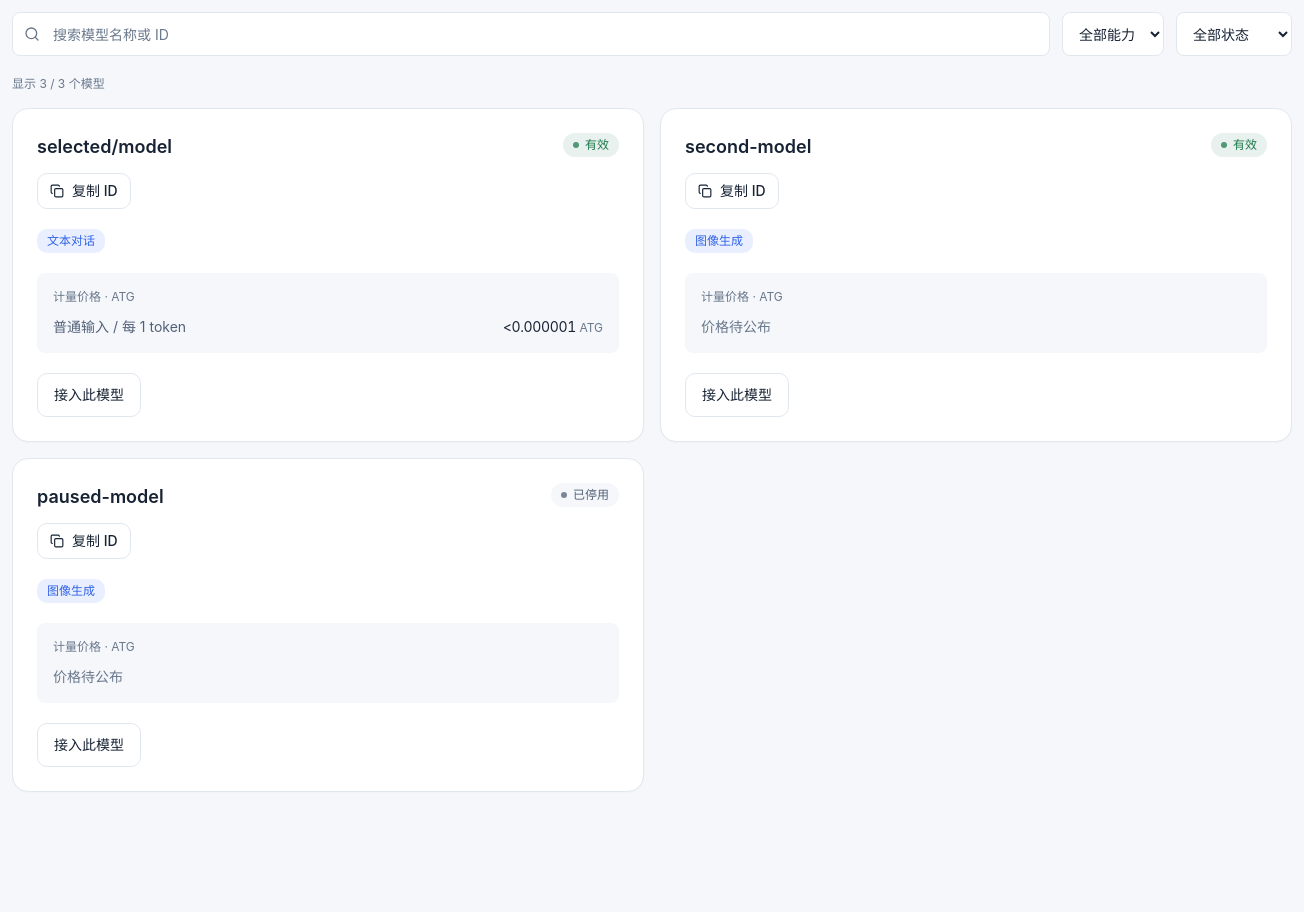
Test: combines capability and availability filters and links to the selected public model
Select "图像生成" in the dropdown named "按模型能力筛选". click: (1113, 34)
box: [1062,12,1164,56]
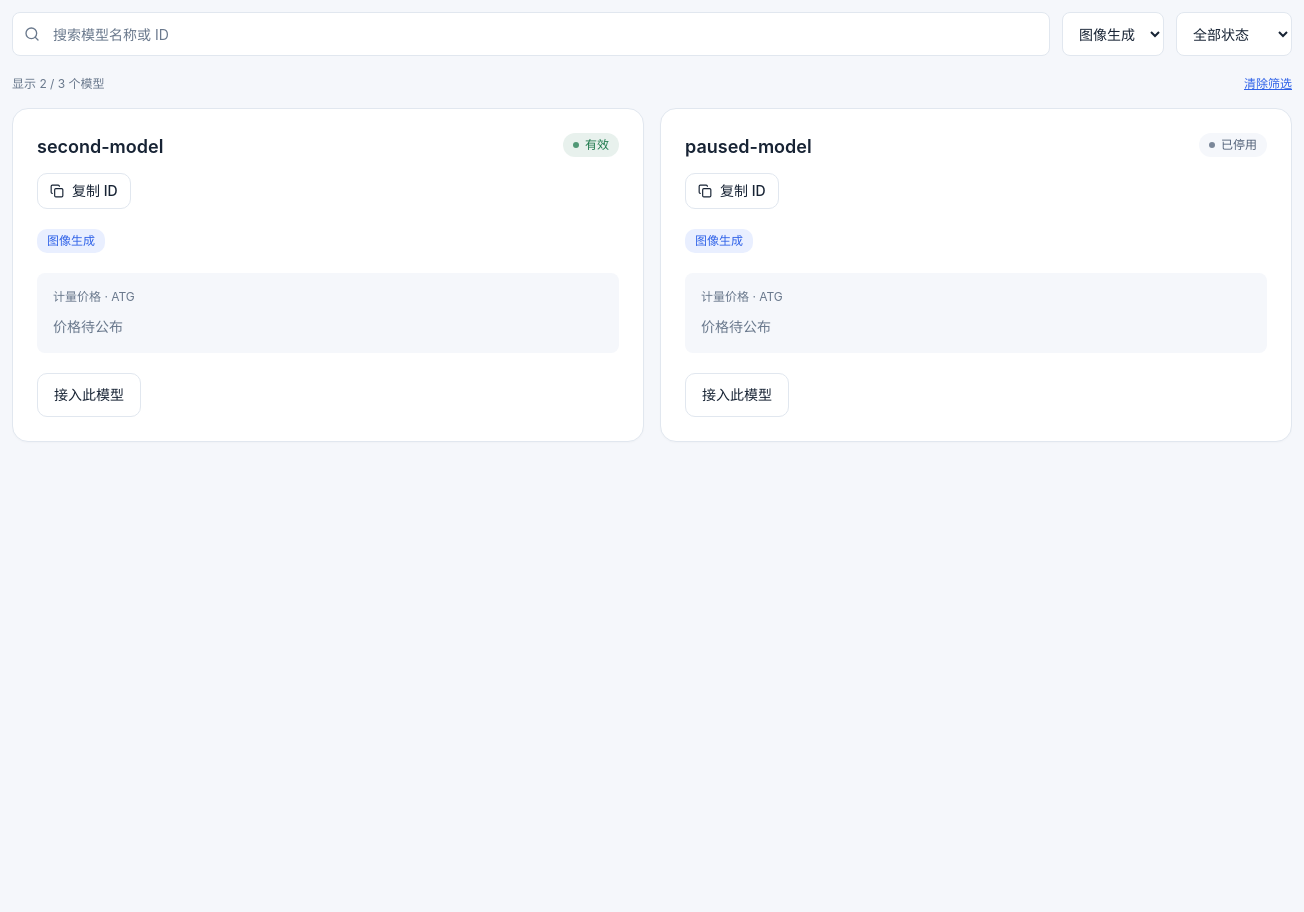
Select "当前可调用" in the dropdown named "按可用状态筛选". click: (1234, 34)
box: [1176,12,1292,56]
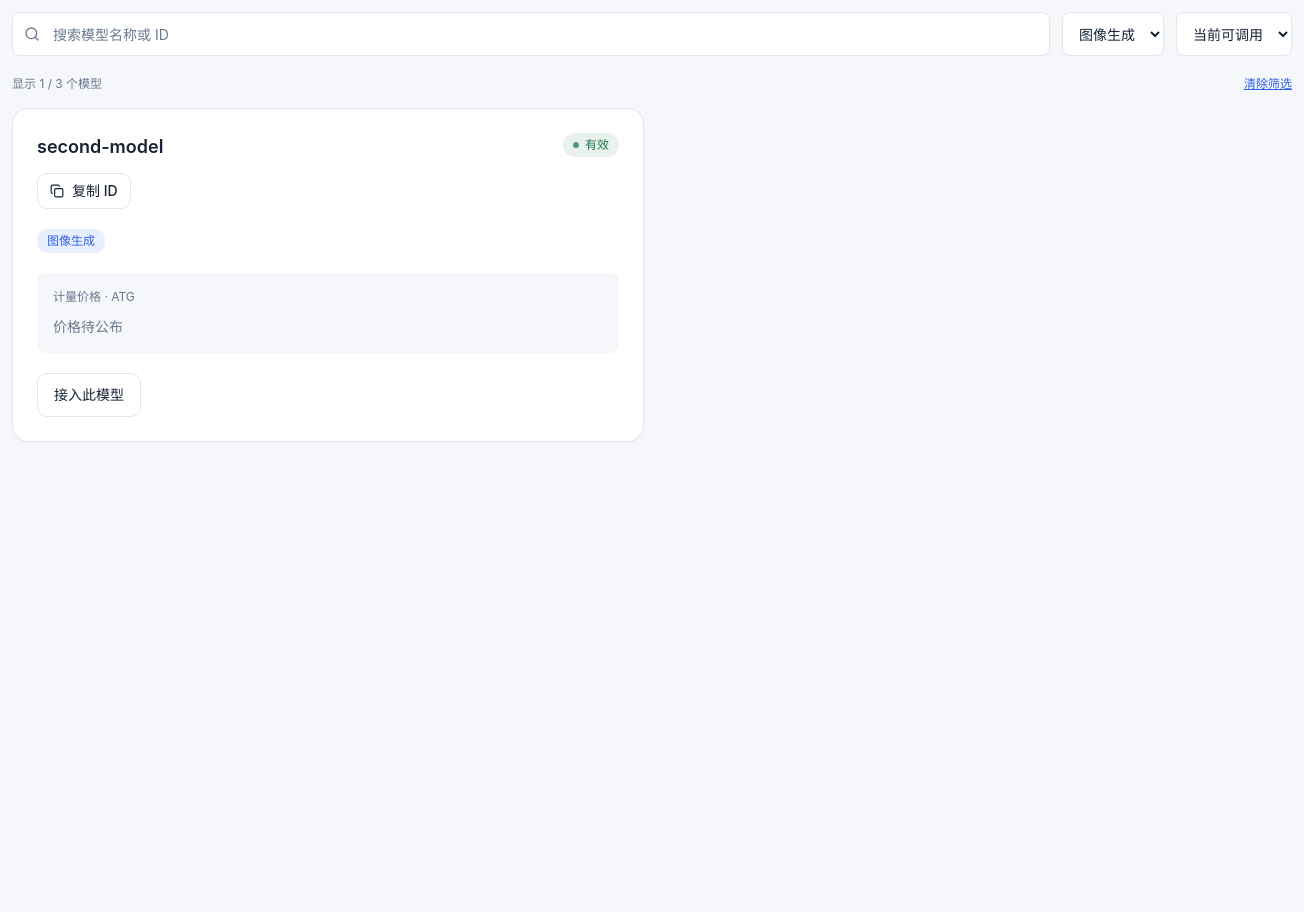
Expected: the text "显示 1 / 3 个模型" is shown, [12,76,102,92]
Click the button "清除筛选". click: (1268, 84)
box: [1244,76,1292,92]
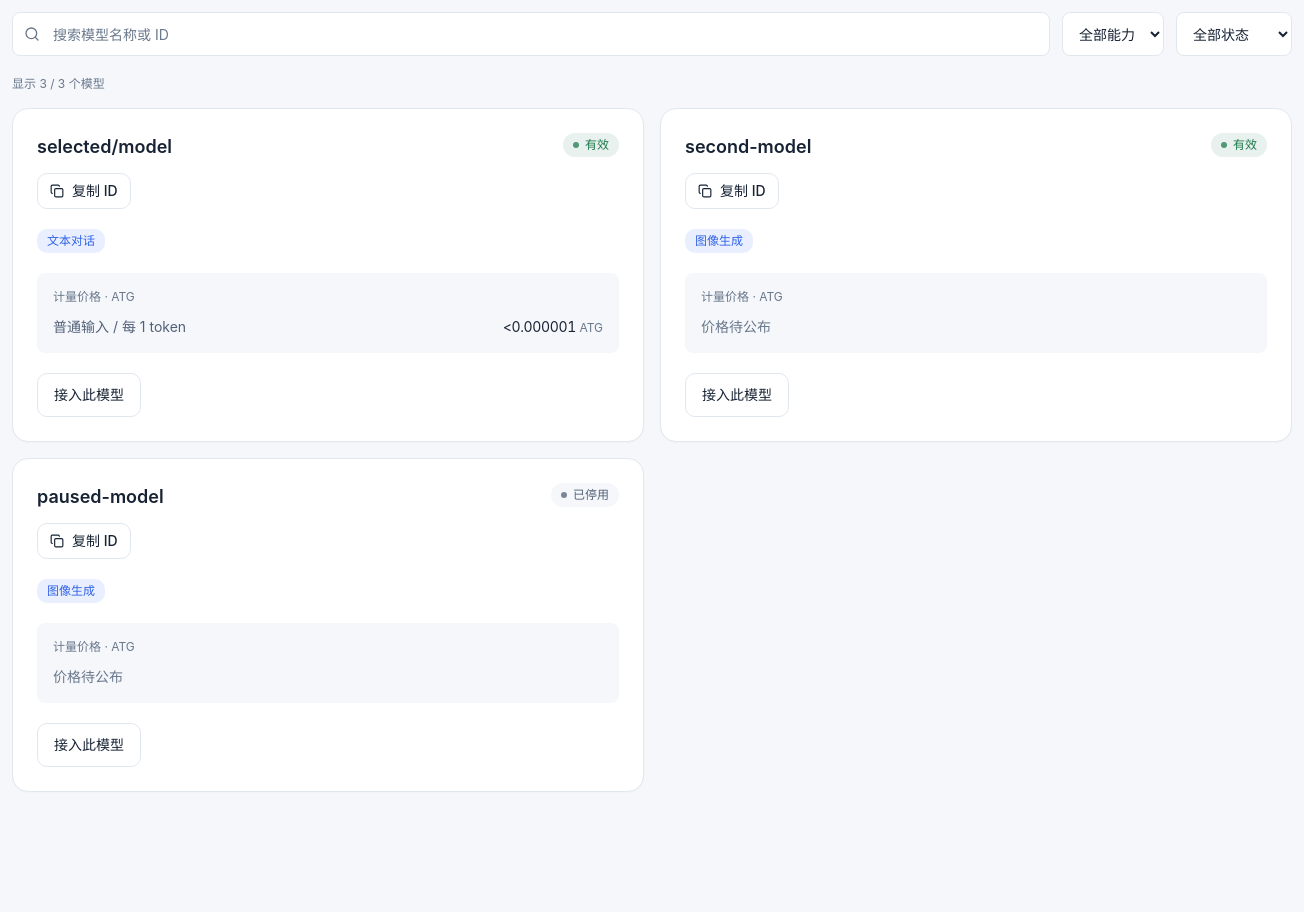
Expected: the text "显示 3 / 3 个模型" is shown, [12,76,105,92]
